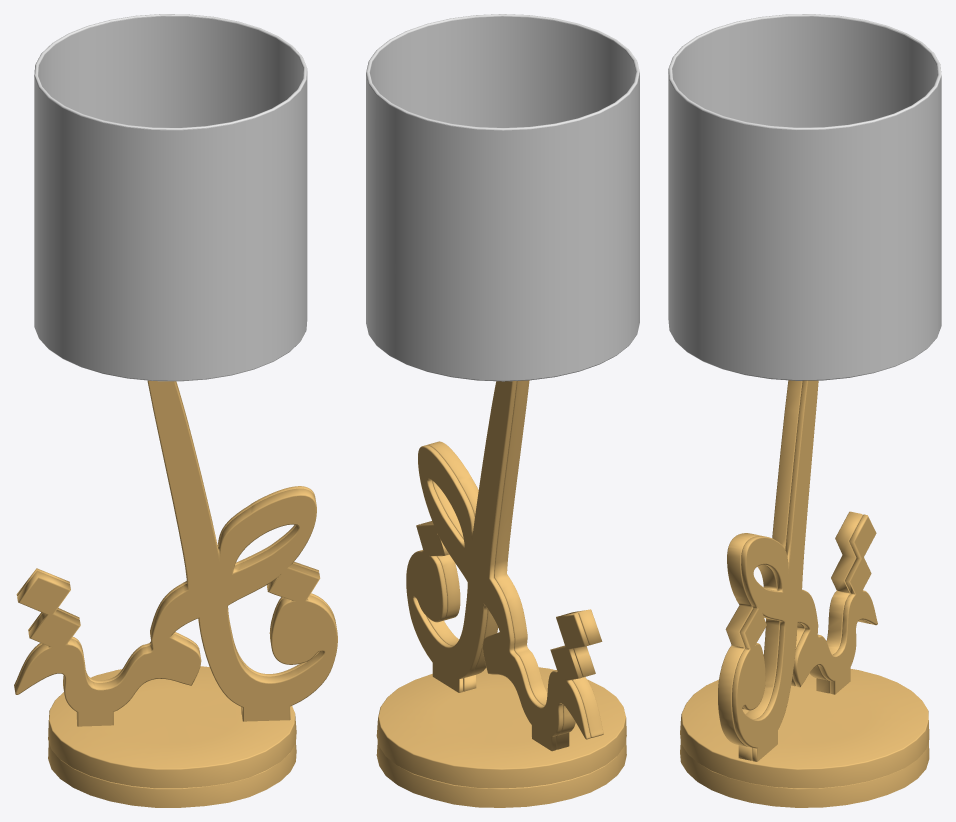
Rendered from fatmaLamp3 1.fbx.
3 views of the same model, side by side, from view 1: azimuth 30°, elevation 25°; view 2: azimuth 150°, elevation 25°; view 3: azimuth 270°, elevation 25° (orthographic).
Visible parts, largest first — view 1: Outside Cover Lamp, Fatma Thick, Base, Fatma Slim; view 2: Outside Cover Lamp, Base, Fatma Slim, Fatma Thick; view 3: Outside Cover Lamp, Base, Fatma Slim, Fatma Thick.
Boxes of the visible parts, <box> form: Outside Cover Lamp: <box>34,14,307,381</box>; Fatma Thick: <box>14,380,337,726</box>; Base: <box>48,666,296,807</box>; Fatma Slim: <box>14,381,335,719</box>; Outside Cover Lamp: <box>366,14,639,381</box>; Base: <box>376,667,626,807</box>; Fatma Slim: <box>406,381,590,751</box>; Fatma Thick: <box>421,380,603,749</box>; Outside Cover Lamp: <box>668,14,941,380</box>; Base: <box>680,669,929,807</box>; Fatma Slim: <box>732,380,877,761</box>; Fatma Thick: <box>718,380,870,760</box>.
Size of the model in its own units: 188 by 474 by 172.
